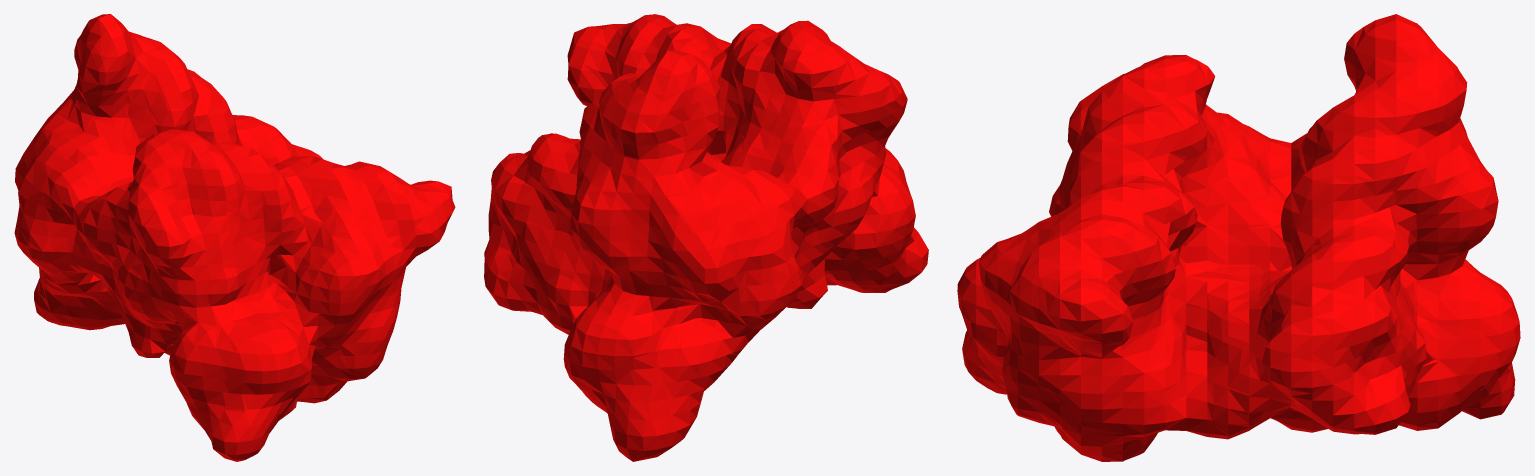
Rendered from seqA_coarse.dae.
The picture shows the model from 3 angles, left to right: view 1: azimuth 30°, elevation 25°; view 2: azimuth 150°, elevation 25°; view 3: azimuth 270°, elevation 25°; orthographic projection. The views are drawn at different scales.
Parts seen in each view (by area): view 1: seqA; view 2: seqA; view 3: seqA.
Boxes of the visible parts, box(x1,y1,x2,y2) form: seqA: box(14, 14, 455, 461); seqA: box(484, 14, 928, 461); seqA: box(957, 14, 1520, 461).
Bounding box in the file's own units: 78.96 × 80.05 × 100.
